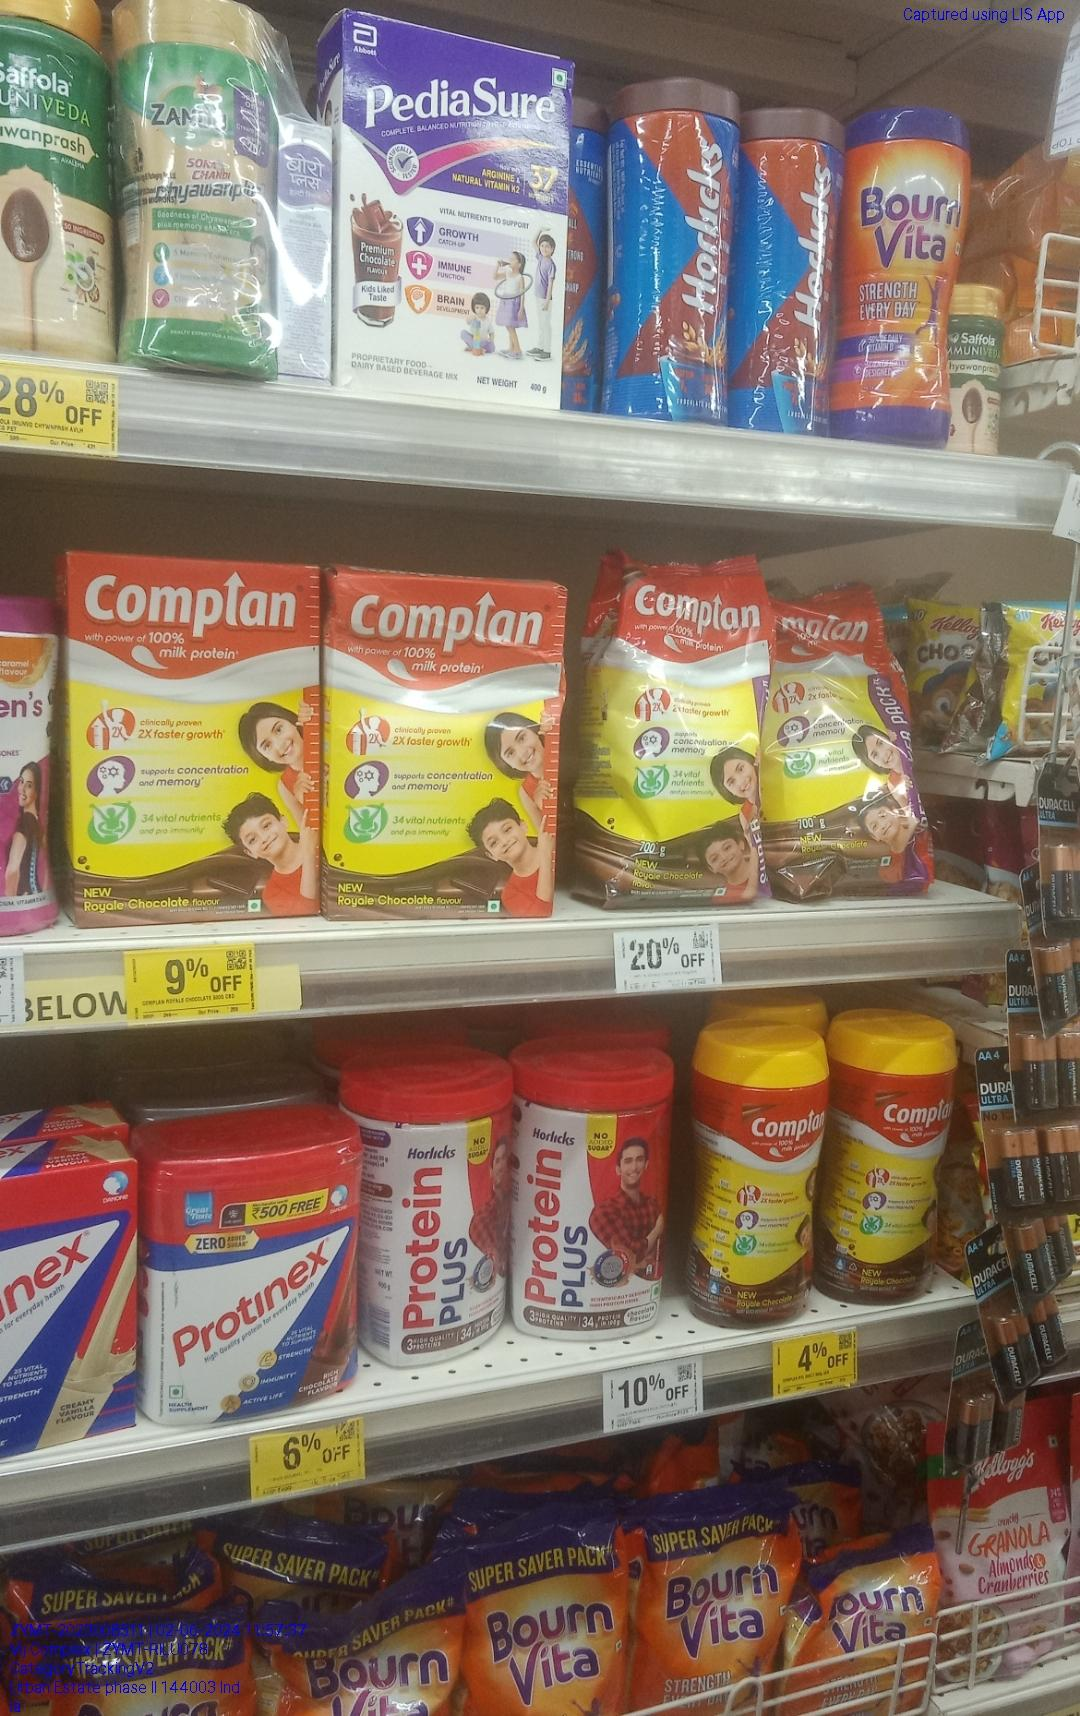PROTINEX_CHOCOLATE_400_G_JAR: (159, 1140, 362, 1412)
